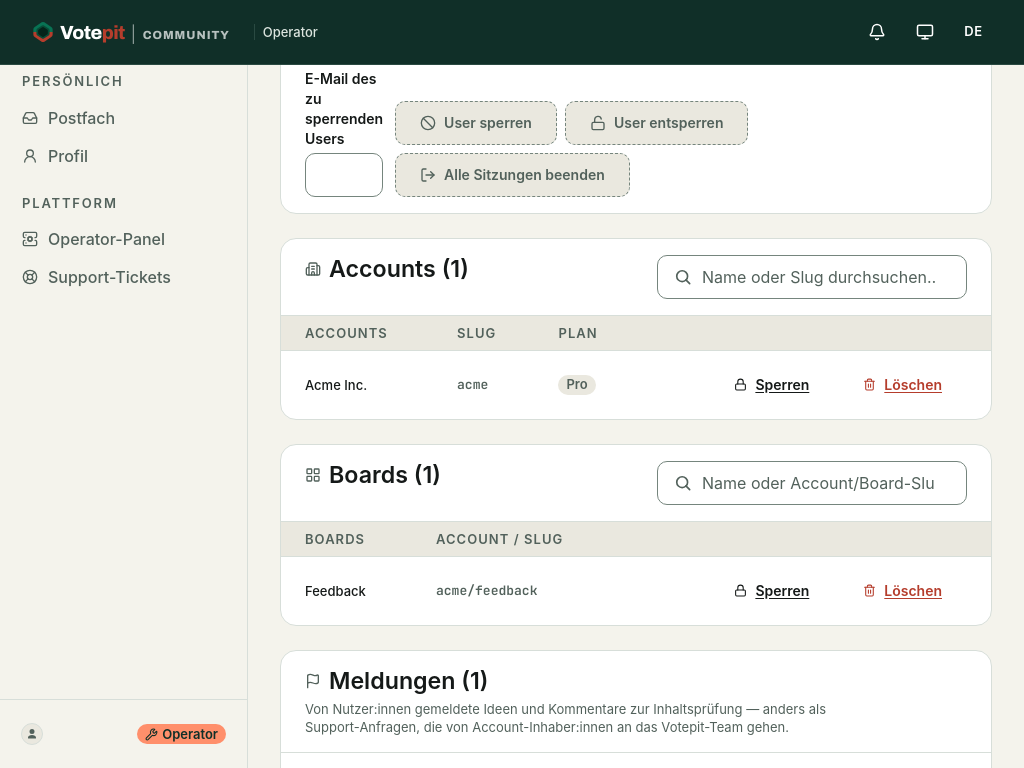
Test: OperatorPage — account actions › locking an account sends POST and reloads all lists
(page scrolled)
Click the button with aria-label "Account Acme Inc. sperren".
click(772, 385)  # box left=709, top=363, right=834, bottom=407
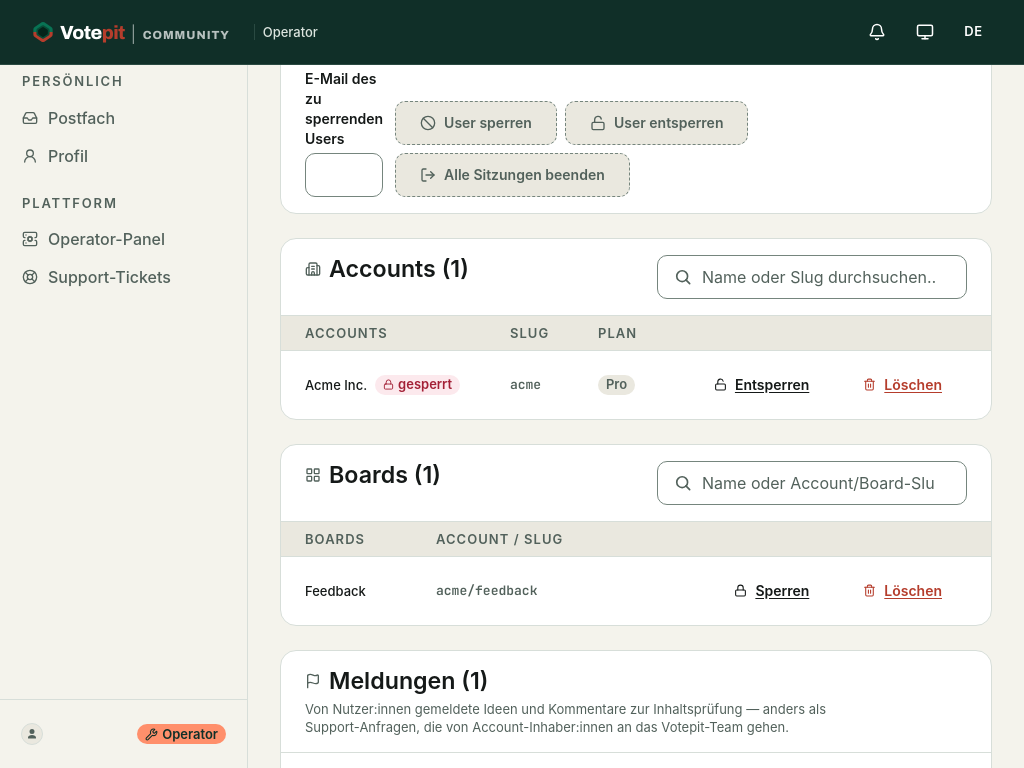
Check: the button with aria-label "Account Acme Inc. entsperren" is shown, box left=689, top=363, right=834, bottom=407
